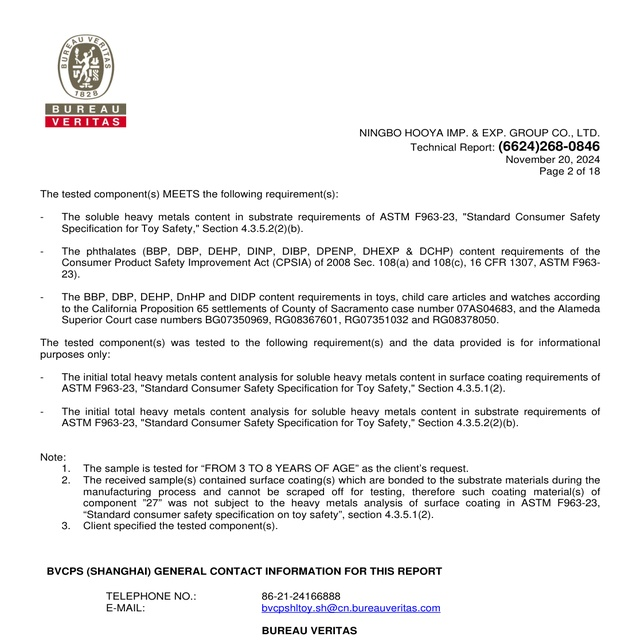bureau_veritas: (42, 31, 131, 133)
